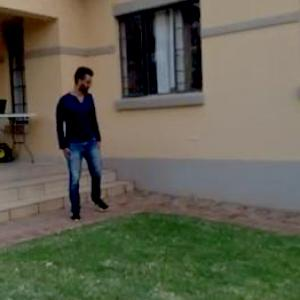follow: (57, 57, 106, 229)
